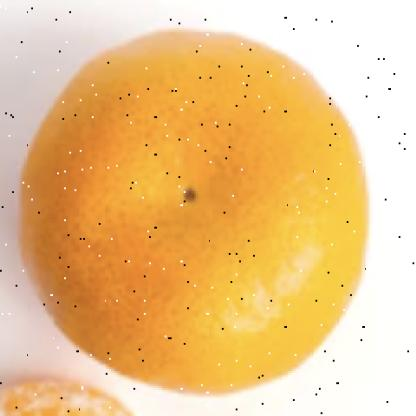fresh: (20, 32, 347, 333)
